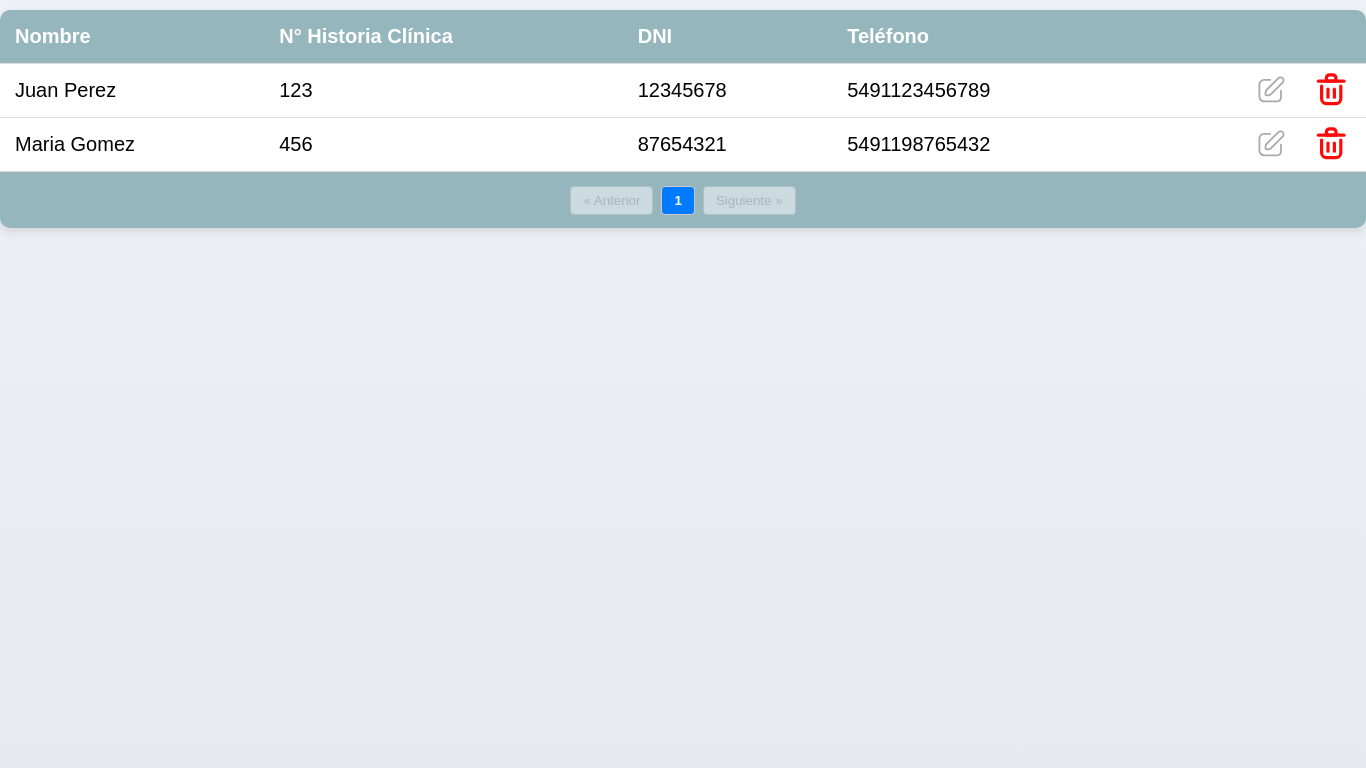
Test: PersonTable › abre modal de edición al hacer click en editar
Check: the text "Juan Perez" is shown, box [0,64,264,118]
Click the 1st button: coordinates (1271, 89) [1241,74,1301,105]
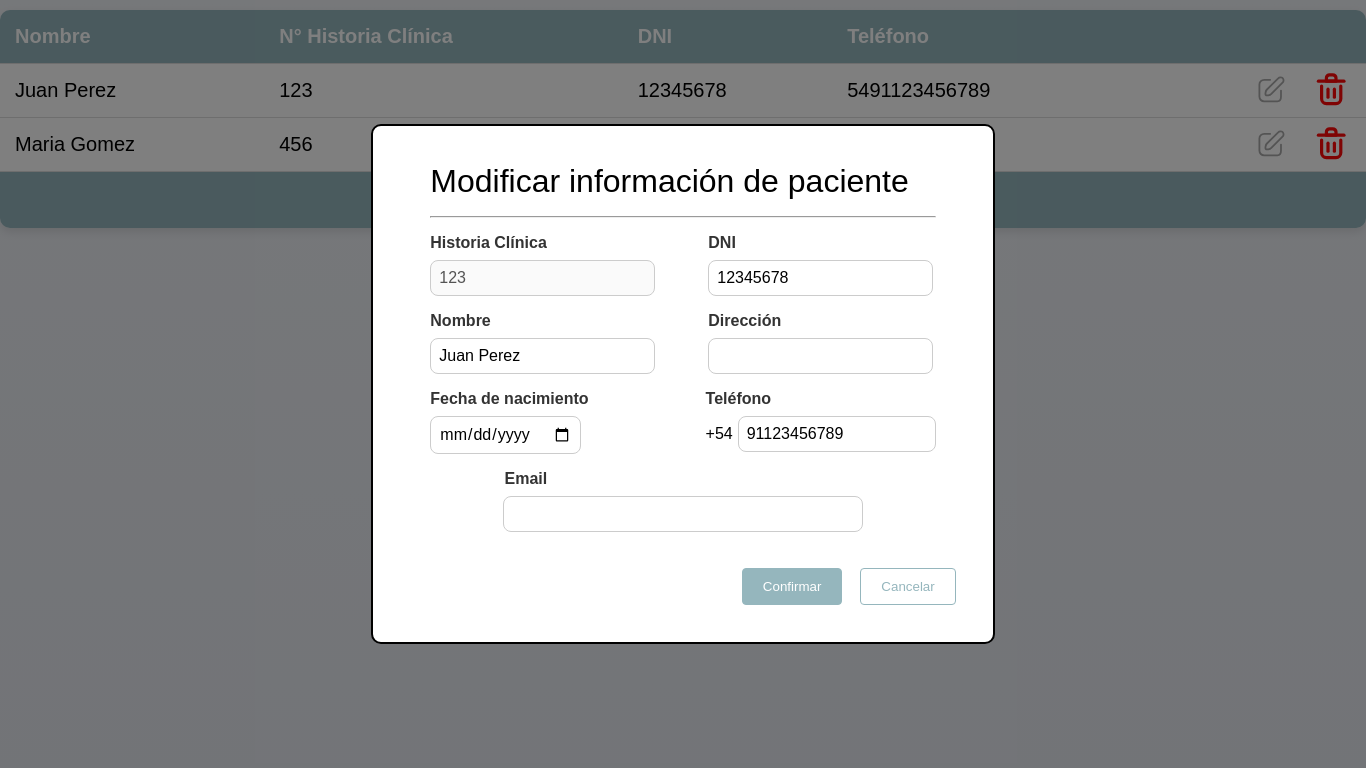
Check: the text "Modificar información de paciente" is shown, box [430,163,936,200]
